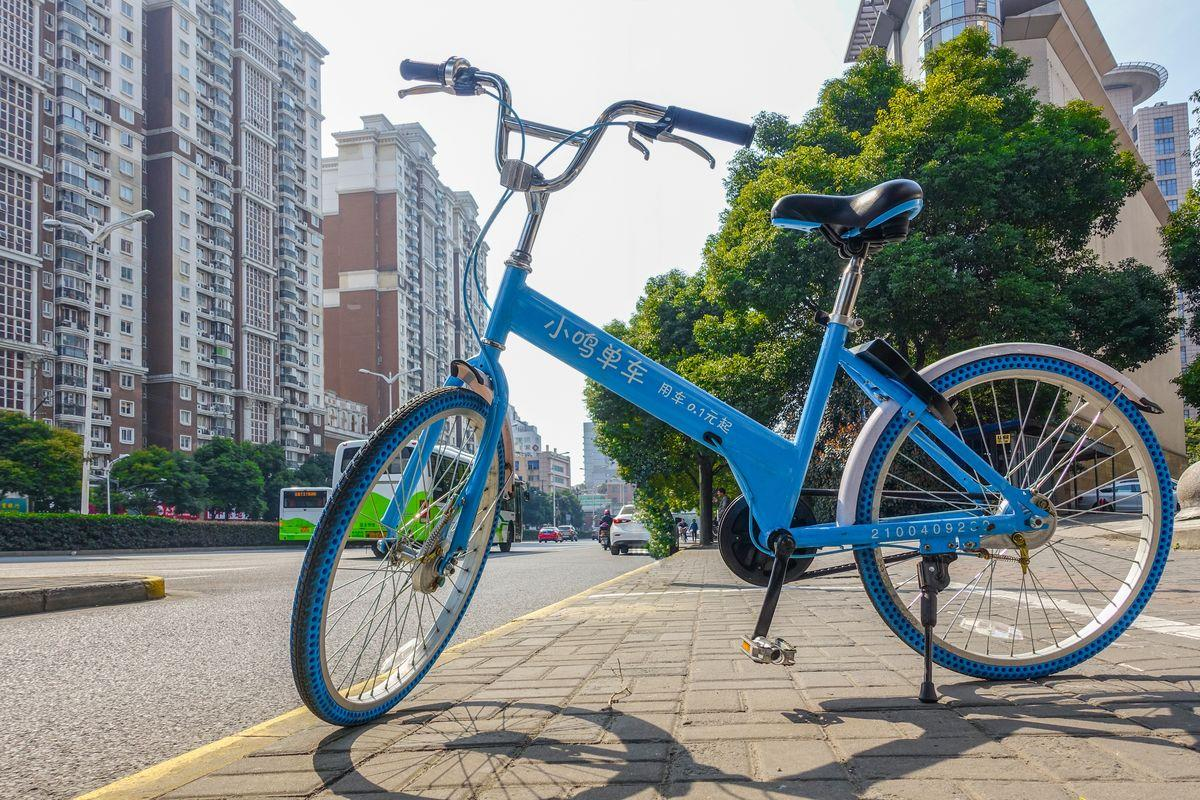单车: (288, 13, 1193, 763)
